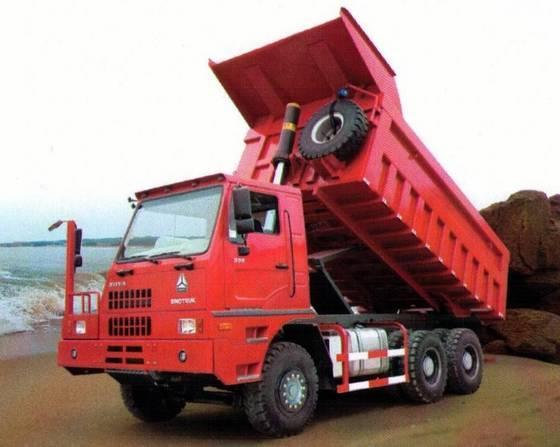truck: (54, 82, 492, 396)
